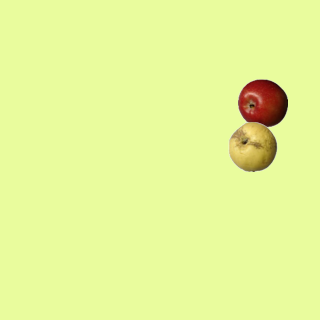Apple Braeburn: (237, 78, 287, 128)
Apple Golden 1: (227, 121, 277, 171)
